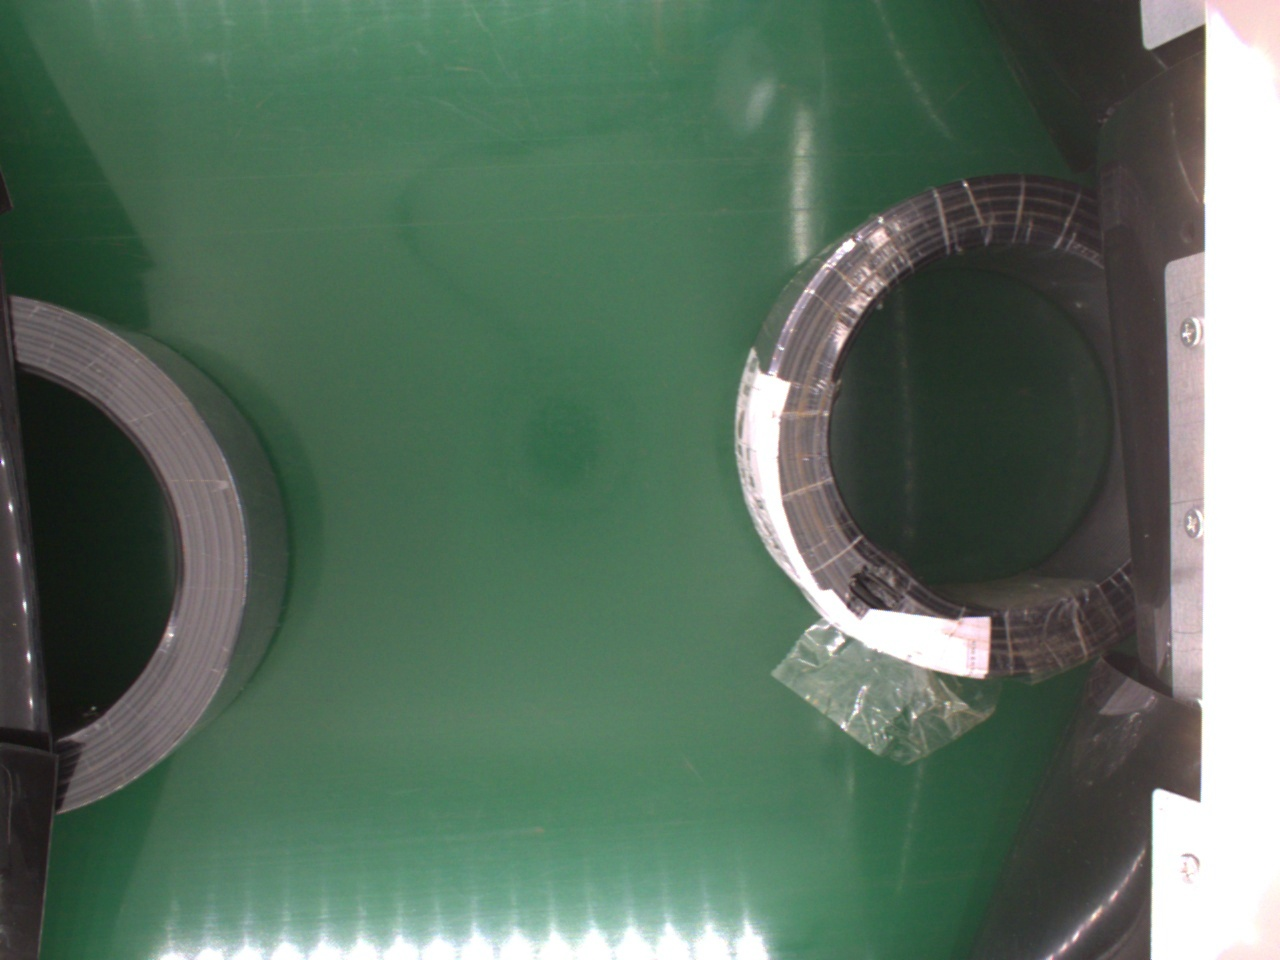black: (726, 175, 1143, 684), (14, 293, 287, 814)
